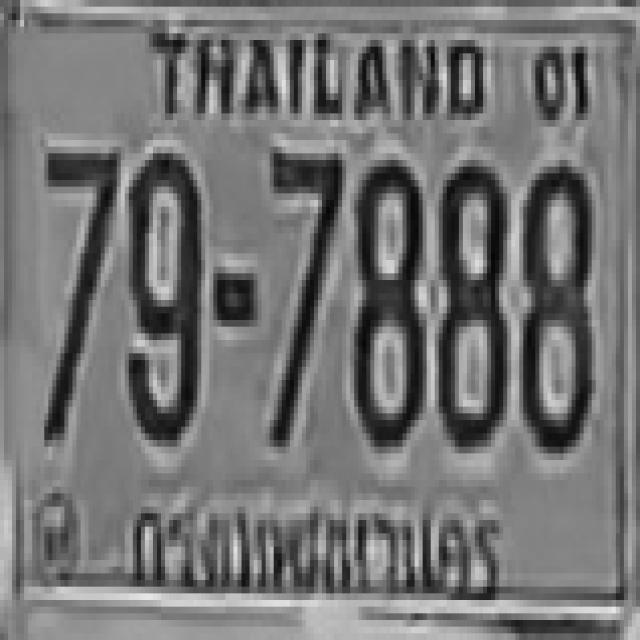7: (40, 143, 117, 437), (268, 147, 340, 440), (42, 146, 119, 386), (270, 143, 342, 370)
8: (352, 153, 421, 440), (519, 160, 588, 447), (435, 157, 503, 443)
9: (125, 147, 197, 440)
Bangkok: (118, 492, 516, 613)
